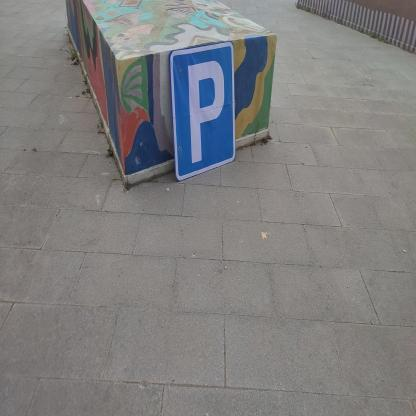Parking-Sign: (171, 41, 237, 183)
